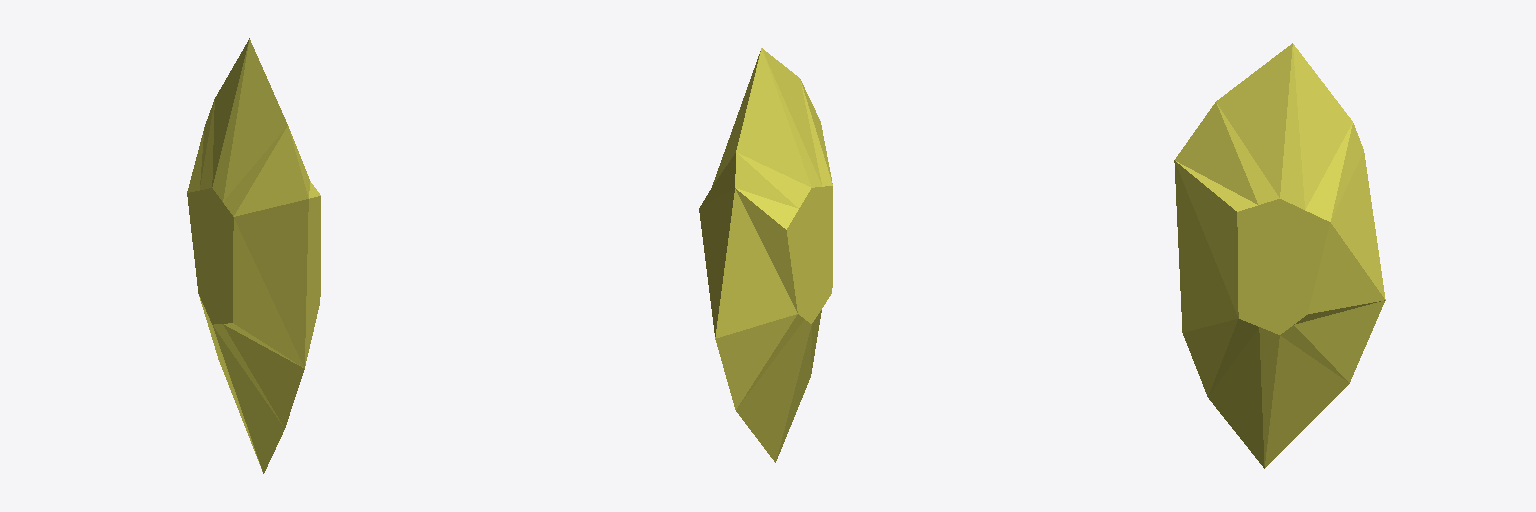
3 renders of one model, left to right at view 1: azimuth 30°, elevation 25°; view 2: azimuth 150°, elevation 25°; view 3: azimuth 270°, elevation 25°, orthographic.
Parts seen in each view (by area): view 1: Cube; view 2: Cube; view 3: Cube.
Boxes of the visible parts, box(x1,y1,x2,y2) form: Cube: box(187, 38, 320, 473); Cube: box(699, 48, 832, 462); Cube: box(1174, 43, 1385, 468).
Size of the model in its own units: 0.7792 by 3.62 by 1.63.
1 materials, 1 textured.